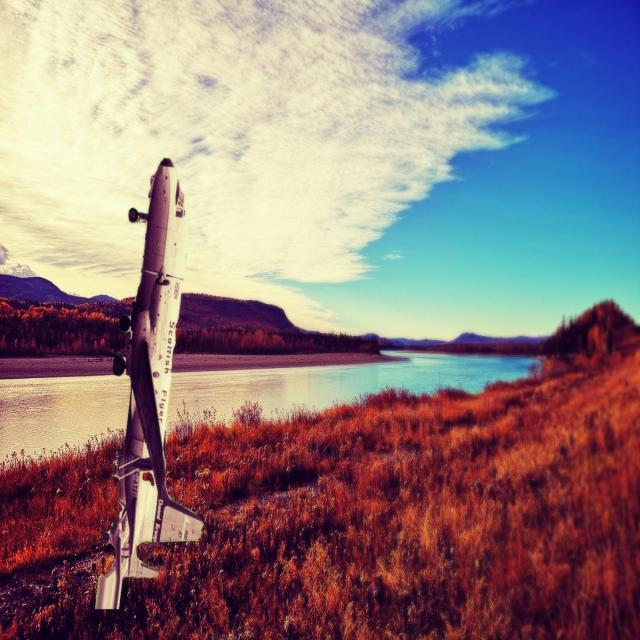airplane: (94, 156, 206, 610)
